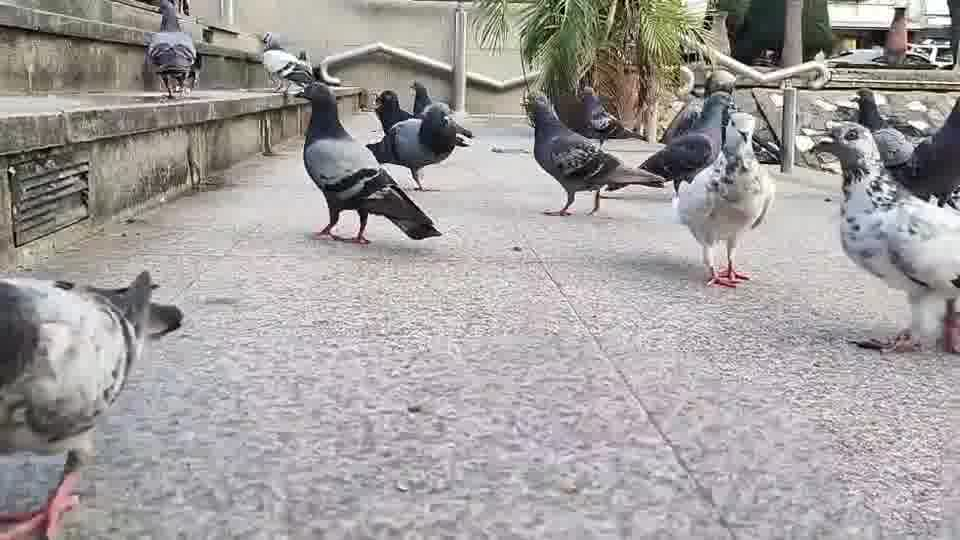Pigeon: (0, 268, 183, 538), (805, 119, 959, 354), (291, 80, 442, 245), (670, 124, 776, 288), (526, 93, 665, 216), (849, 88, 959, 209), (638, 90, 735, 198), (365, 99, 472, 191), (575, 85, 648, 149), (407, 79, 475, 139), (260, 31, 315, 93)
